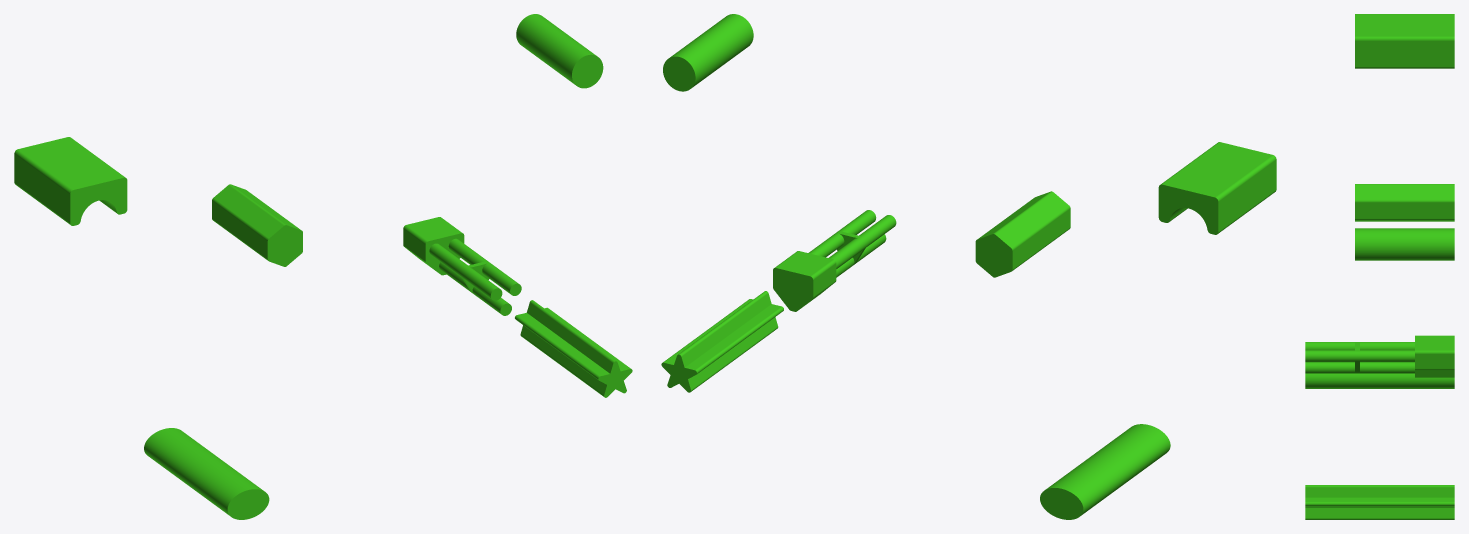
3 views of the same model, side by side, from view 1: azimuth 30°, elevation 25°; view 2: azimuth 150°, elevation 25°; view 3: azimuth 270°, elevation 25° (orthographic). The views are drawn at different scales.
Visible parts, largest first — view 1: obj5; view 2: obj5; view 3: obj5.
Part boxes in pixels (x1,y1,x2,y2): obj5: (14, 14, 632, 519); obj5: (661, 14, 1276, 519); obj5: (1305, 14, 1454, 519).
Size of the model in its own units: 554 by 350 by 150.
